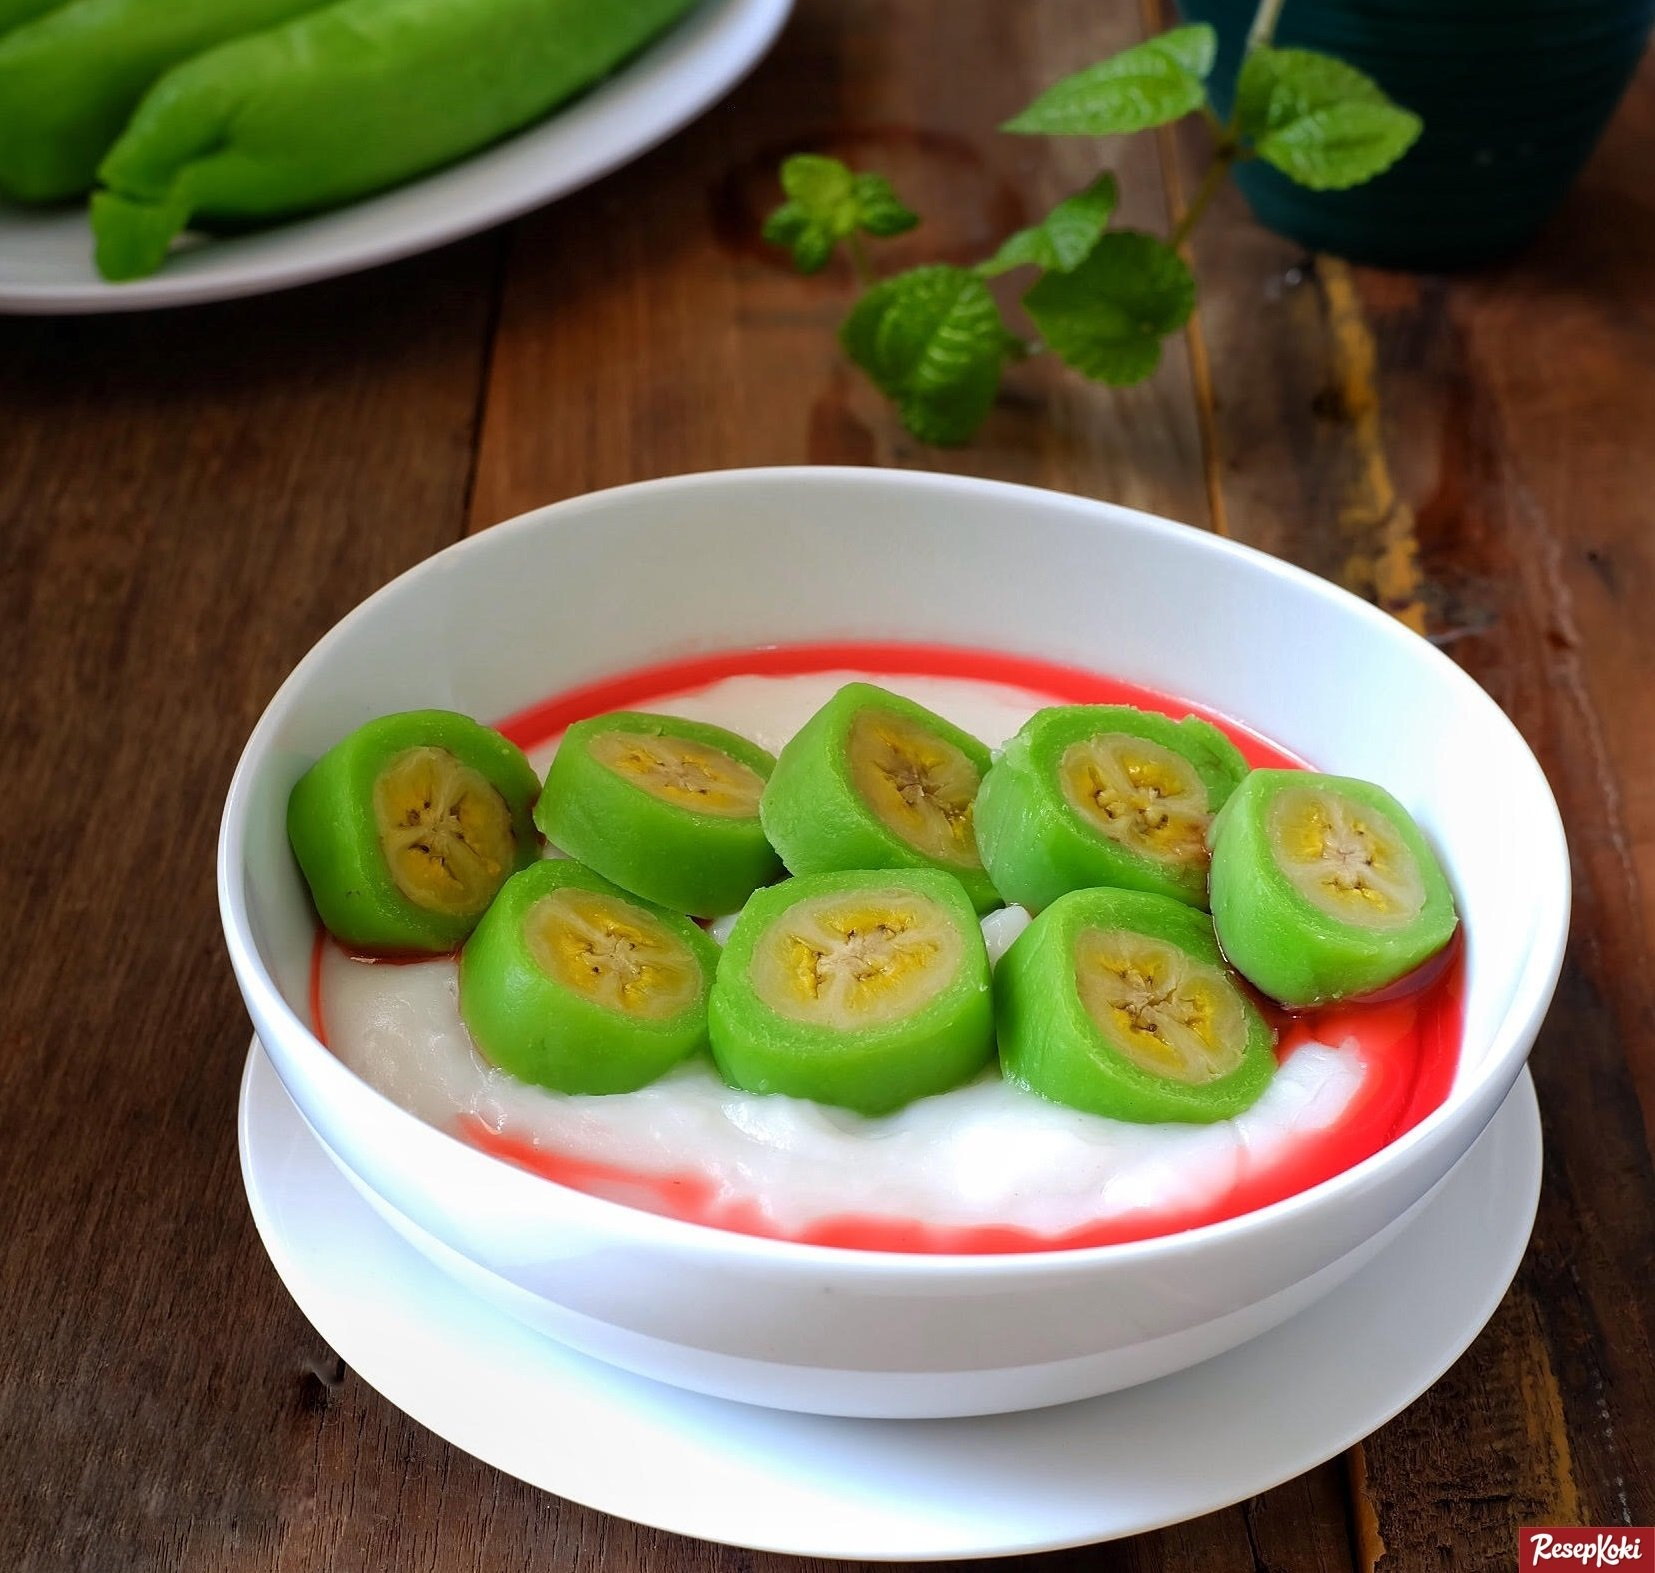pisang_ijo: (1188, 716, 1497, 976), (724, 854, 981, 1091), (279, 699, 541, 928), (532, 668, 792, 888)
